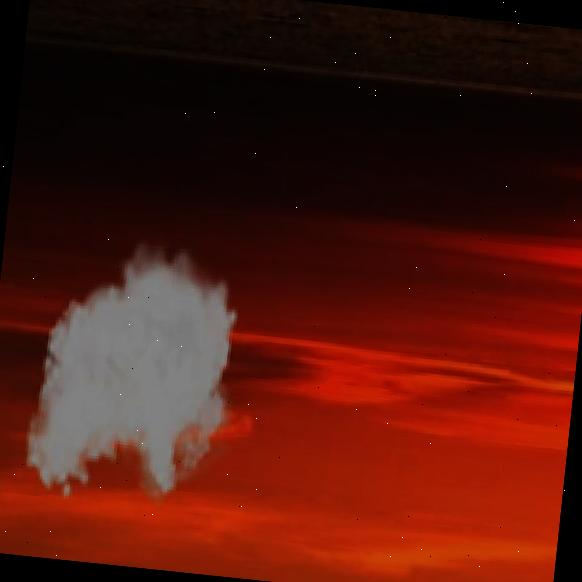smoke: (17, 221, 259, 519)
